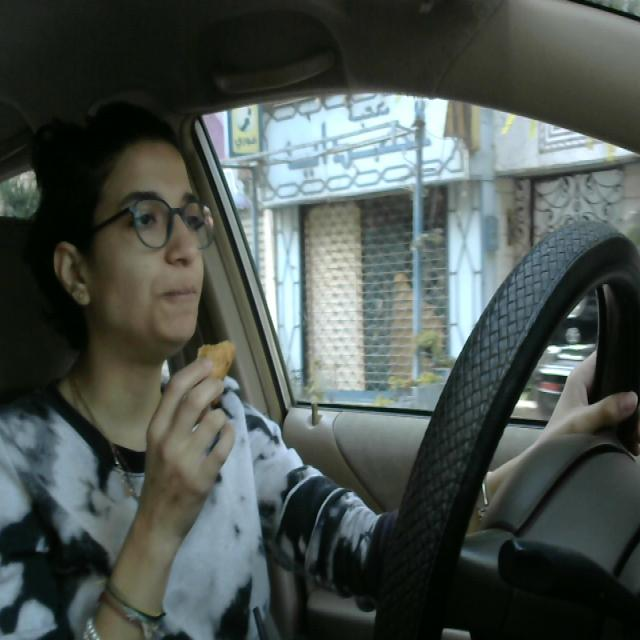eating: (182, 334, 240, 394)
